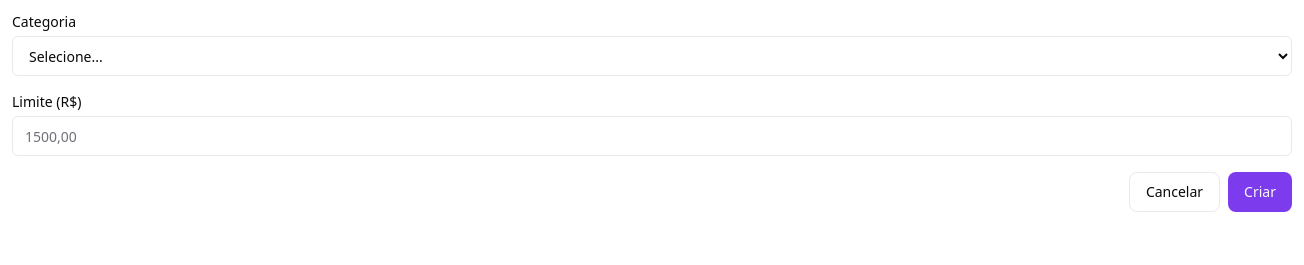
Test: BudgetForm › should validate category is required
This screenshot has width=1304, height=265.
What coordinates should you click on to do the following:
click the button "Criar"
I would click on:
 (1260, 192)
Its box is x1=1228 y1=172 x2=1292 y2=212.
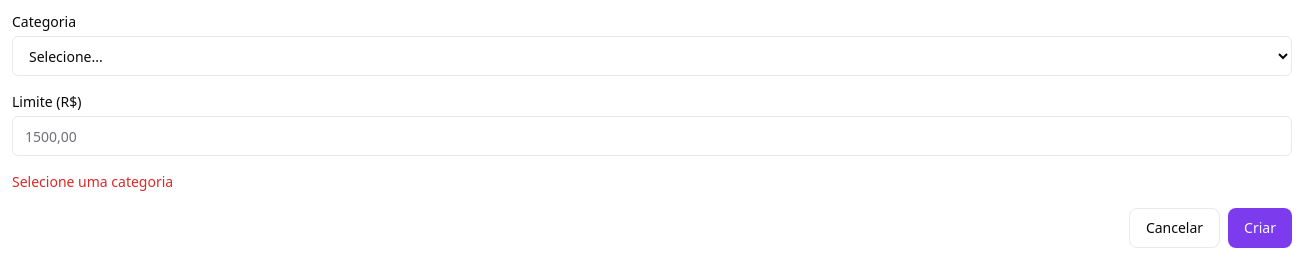
Result: the text "Selecione uma categoria" is shown at x1=12 y1=172 x2=173 y2=191
